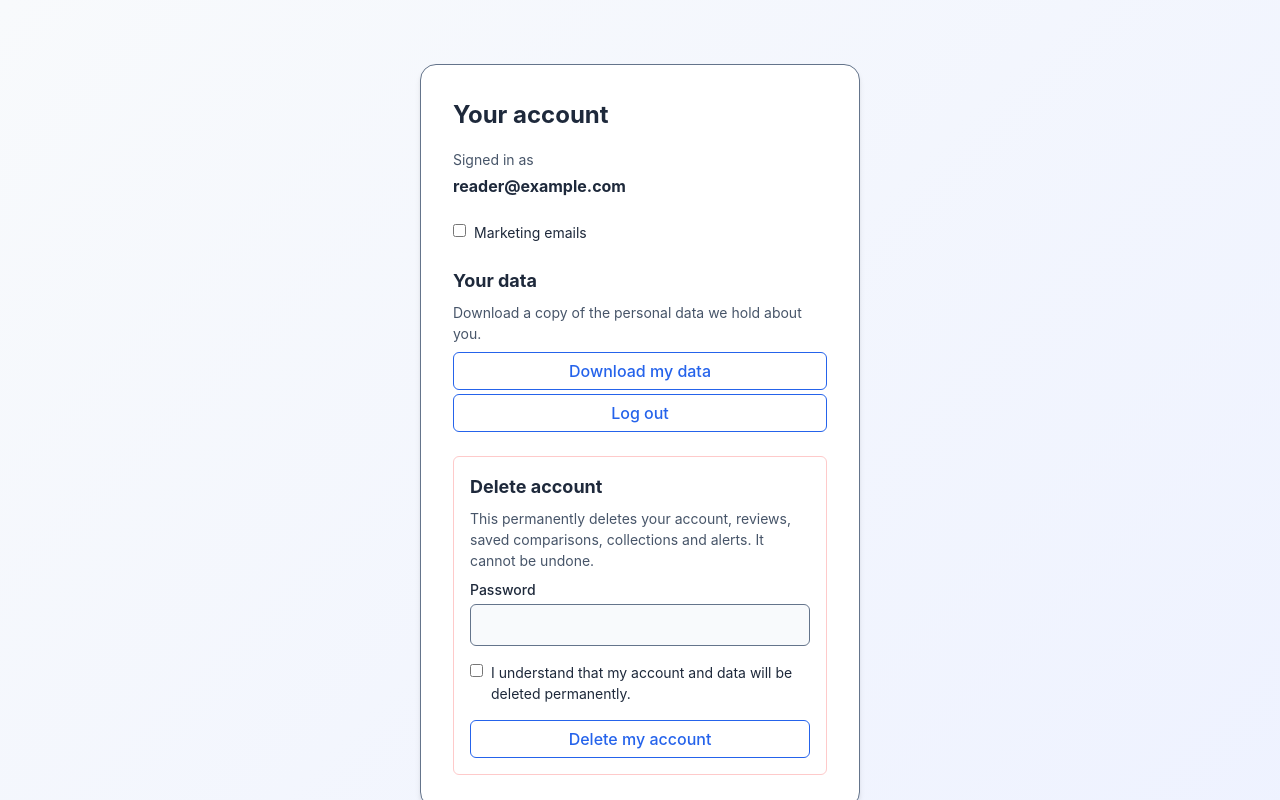
Scenario: AccountPage › saves the marketing emails toggle with a PATCH
This screenshot has width=1280, height=800.
What coordinates should you click on to do the following:
click the checkbox labelled "Marketing emails"
I would click on:
 (460, 230)
Its box is [453, 224, 466, 237].
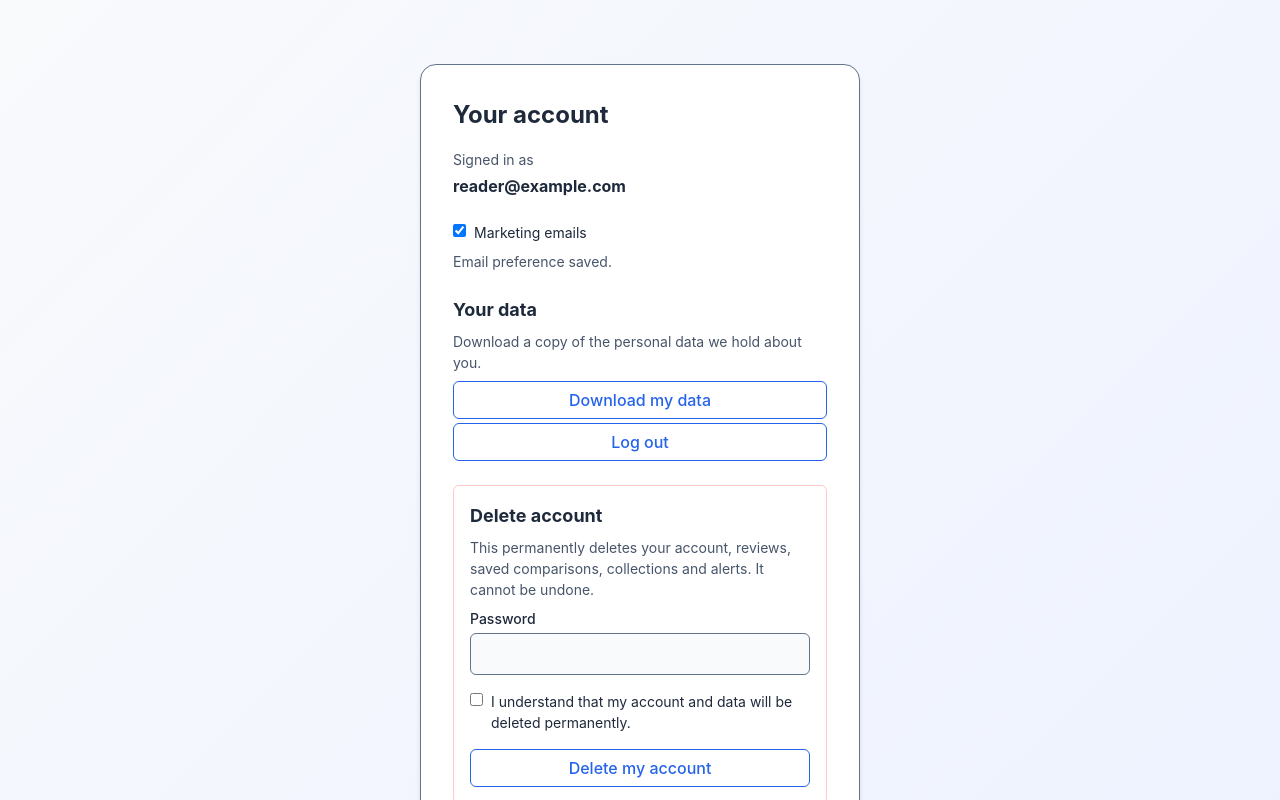
Check: the checkbox labelled "Marketing emails" is checked, box [453, 224, 466, 237]
Check: the text "Email preference saved." is shown, box [453, 253, 612, 270]
